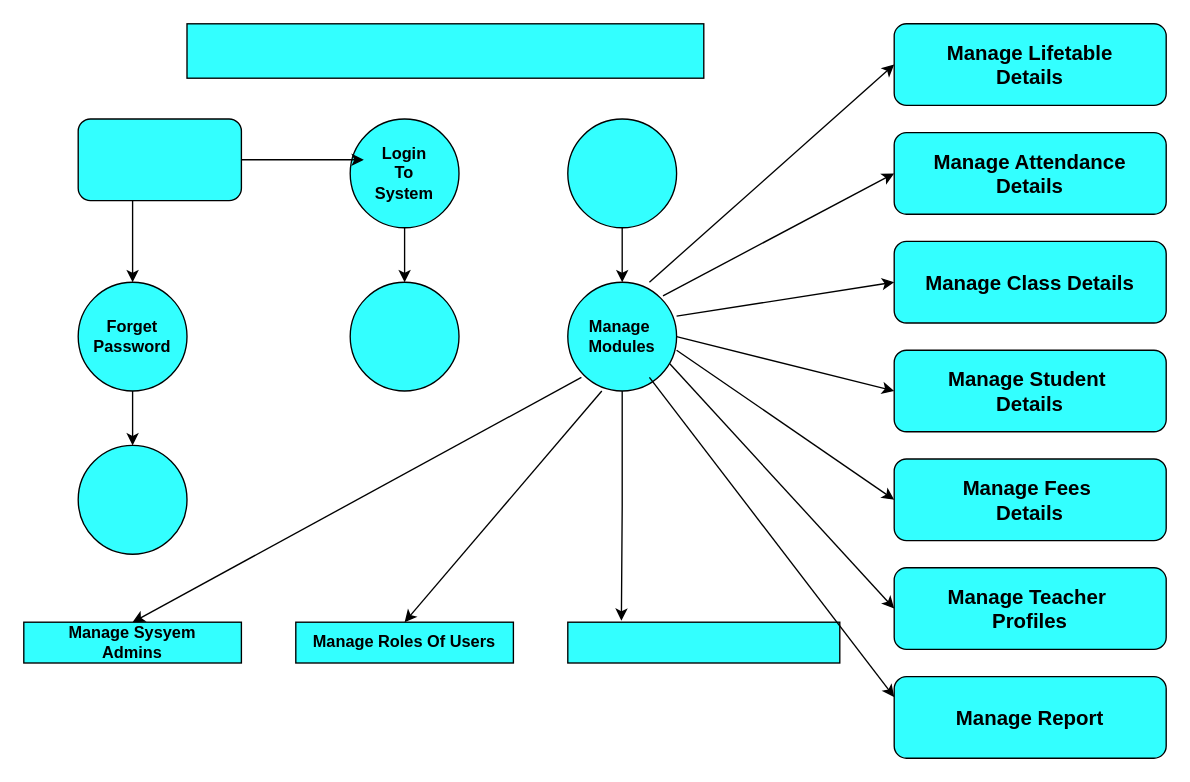
This 1190x782 diagram has some shape labels left out. The shapes that lost their labels are listed below. From the top down, each one's centre as x and y in pixels, then its label:
At pixel 445 50: "Student Information System".
At pixel 159 159: "Admin".
At pixel 621 173: "Check Roles of Acess".
At pixel 404 336: "Check Credentals".
At pixel 132 499: "Send email To User".
At pixel 703 642: "Manage User Permissions".
